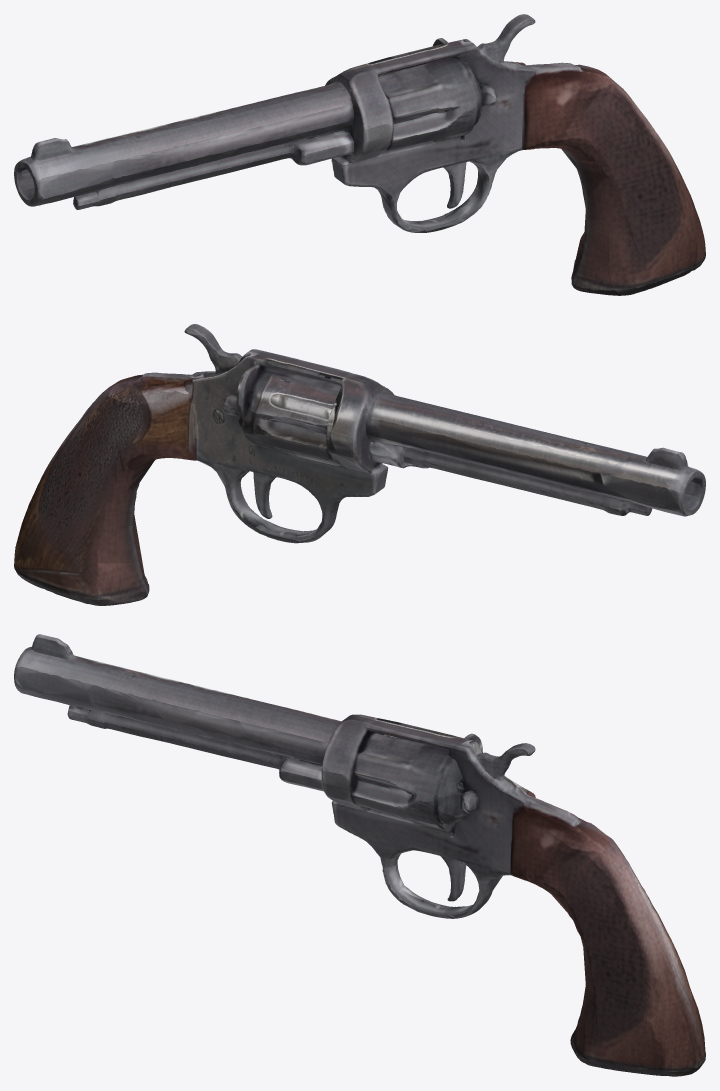
File: scene-4-objects-6-glbData-1fba6592d467.glb
The picture shows the model from 3 angles, top to bottom: view 1: azimuth 30°, elevation 25°; view 2: azimuth 150°, elevation 25°; view 3: azimuth 330°, elevation 25°; orthographic projection.
Parts seen in each view (by area): view 1: Revolver_10in_Optimized; view 2: Revolver_10in_Optimized; view 3: Revolver_10in_Optimized.
Part boxes in pixels (left/top/right/bottom): Revolver_10in_Optimized: left=14, top=14, right=705, bottom=295; Revolver_10in_Optimized: left=14, top=324, right=705, bottom=605; Revolver_10in_Optimized: left=14, top=634, right=705, bottom=1076.
Bounding box in the file's own units: 0.3798 × 0.1528 × 0.046.
Materials: 1 (1 with a texture image).
